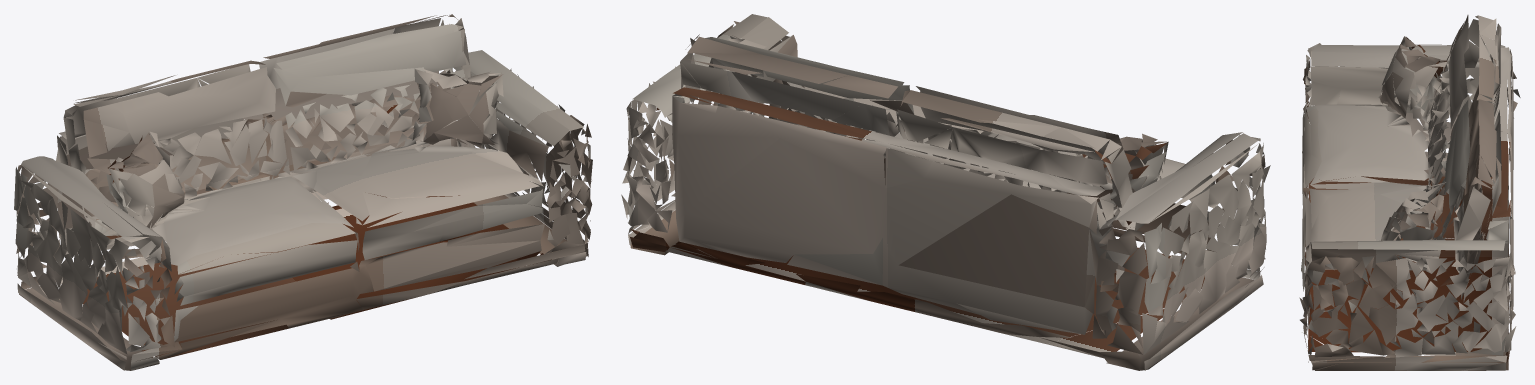
Rendered from jetsofa.glb.
The picture shows the model from 3 angles, left to right: view 1: azimuth 30°, elevation 25°; view 2: azimuth 150°, elevation 25°; view 3: azimuth 270°, elevation 25°; orthographic projection. The views are drawn at different scales.
Visible parts, largest first — view 1: LO.001; view 2: LO.001; view 3: LO.001.
Part boxes in pixels (box(x1,y1,x2,y2)): LO.001: box(14, 14, 592, 370); LO.001: box(621, 14, 1270, 370); LO.001: box(1299, 15, 1520, 370).
Size of the model in its own units: 1.95 by 0.7315 by 0.8437.
1 material, 1 textured.
